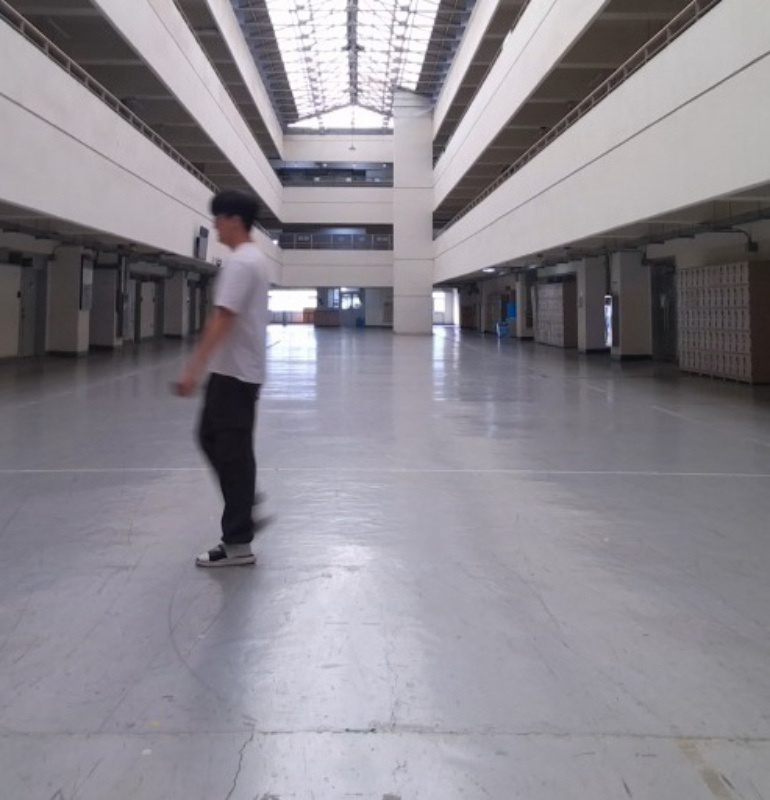person: (165, 188, 279, 573)
